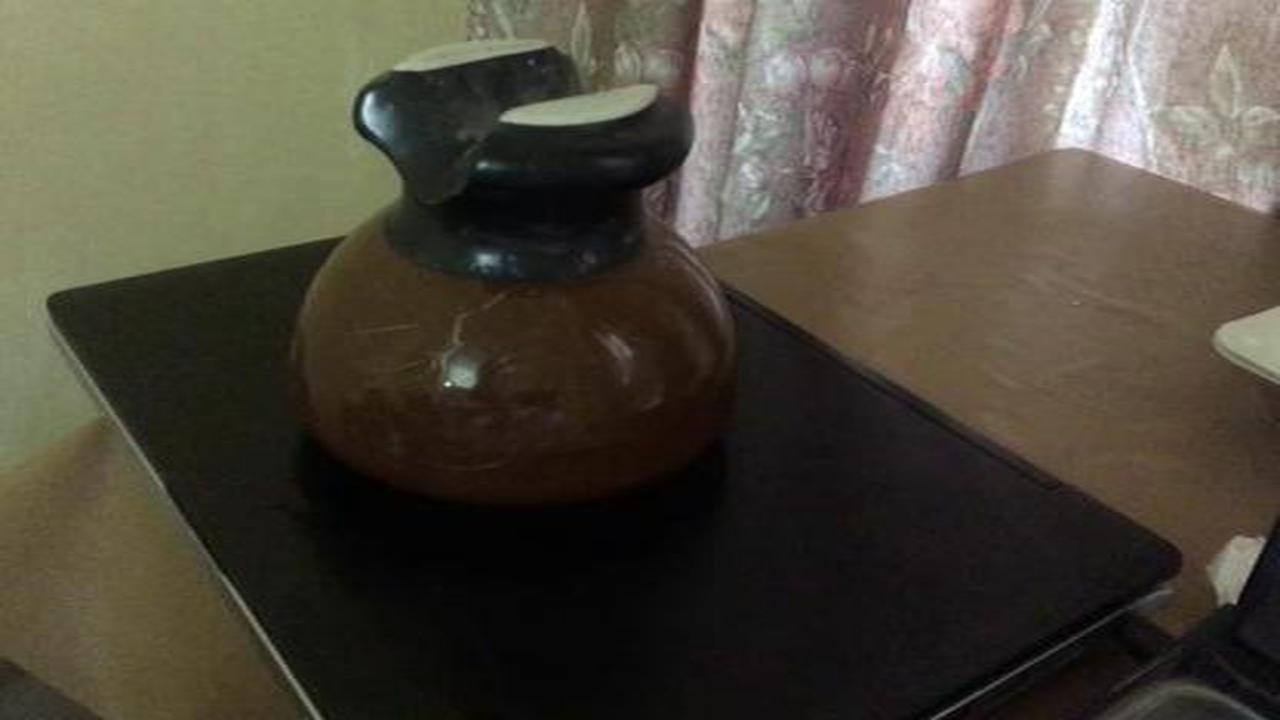insulator_pin: (276, 30, 761, 525)
